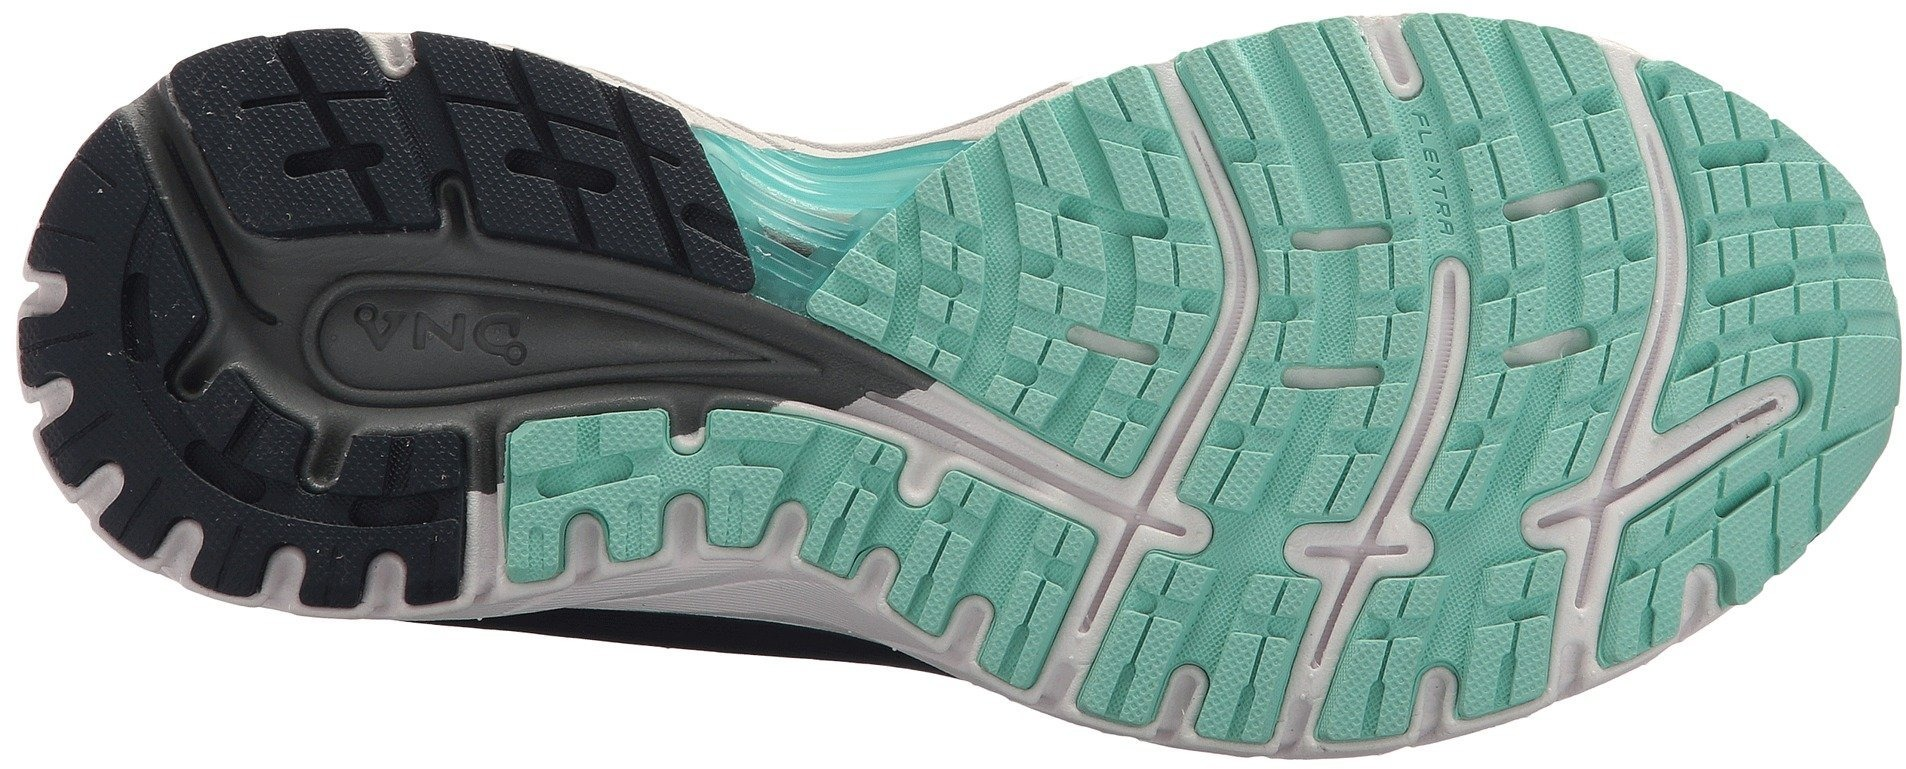quad: (1064, 73, 1656, 588), (1640, 173, 1846, 381), (927, 181, 1090, 332)
ribbon: (203, 174, 526, 480), (523, 222, 769, 460), (1624, 364, 1839, 553)
text: (345, 253, 534, 415)
